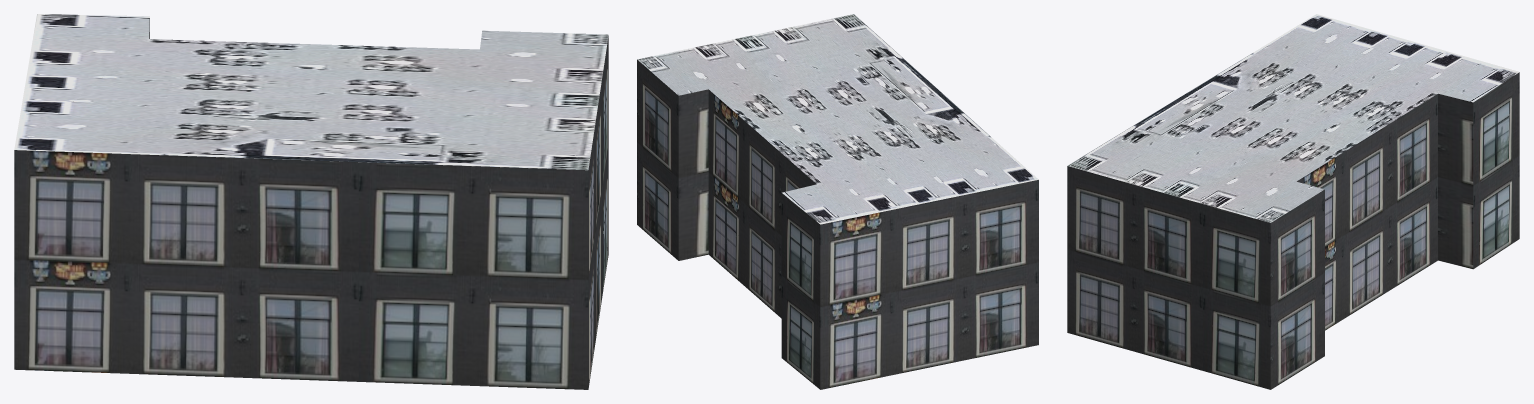
Rendered from ResTex__4865.fbx.
3 views of the same model, side by side, from view 1: azimuth 30°, elevation 25°; view 2: azimuth 150°, elevation 25°; view 3: azimuth 270°, elevation 25° (orthographic). The views are drawn at different scales.
Visible parts, largest first — view 1: CityEngineMaterial_22_m, CityEngineMaterial_8_m; view 2: CityEngineMaterial_22_m, CityEngineMaterial_8_m; view 3: CityEngineMaterial_22_m, CityEngineMaterial_8_m.
Boxes of the visible parts, x1,y1,x2,y2 form: CityEngineMaterial_22_m: (14,18,608,389); CityEngineMaterial_8_m: (14,14,608,170); CityEngineMaterial_22_m: (637,60,1038,389); CityEngineMaterial_8_m: (637,14,1038,224); CityEngineMaterial_22_m: (1067,72,1519,389); CityEngineMaterial_8_m: (1067,14,1519,222).
Size of the model in its own units: 16.12 by 6 by 14.75.
2 materials, 2 textured.
